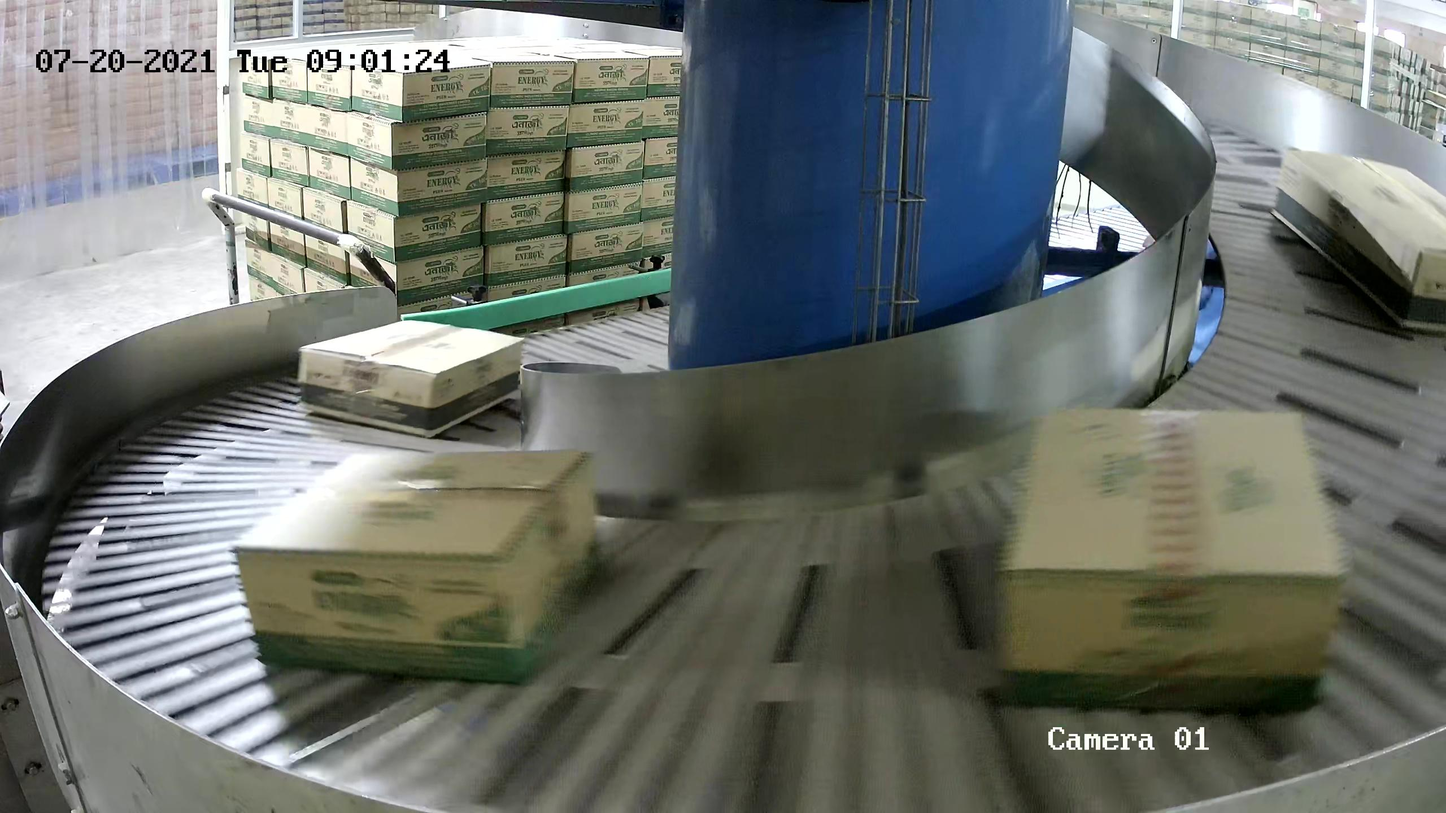Box: (995, 405, 1347, 721), (229, 445, 613, 691), (1270, 145, 1446, 336), (300, 318, 524, 437)
